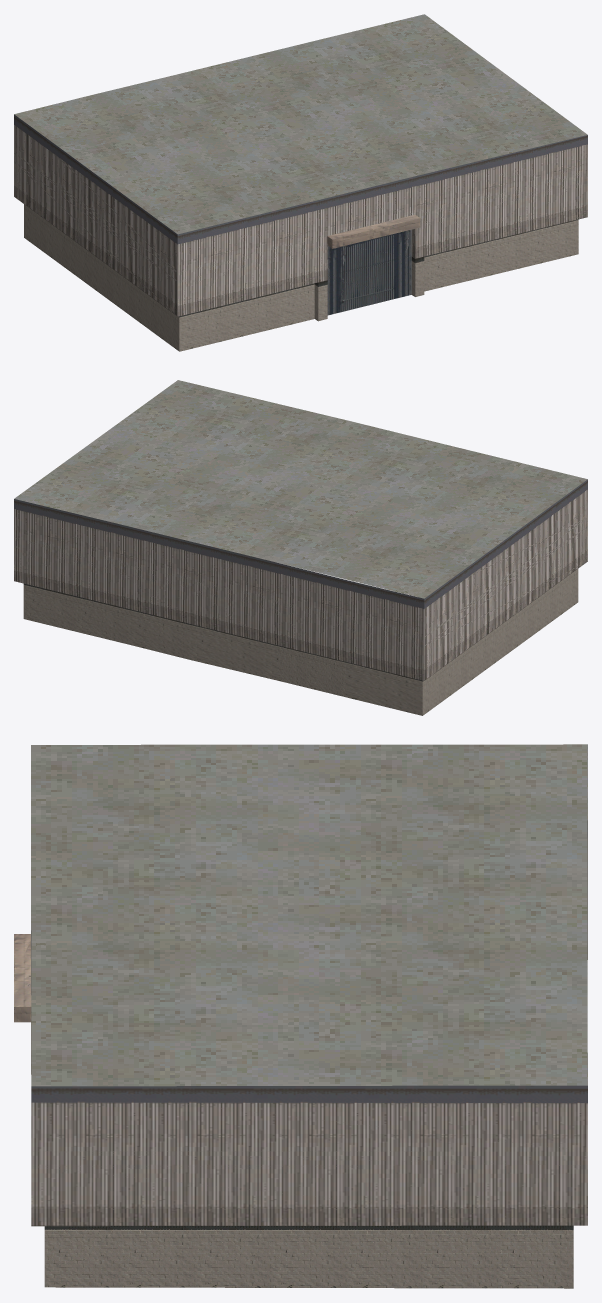
Rendered from studiobld03_law.obj.
The picture shows the model from 3 angles, top to bottom: view 1: azimuth 30°, elevation 25°; view 2: azimuth 150°, elevation 25°; view 3: azimuth 270°, elevation 25°; orthographic projection. The views are drawn at different scales.
Visible parts, largest first — view 1: studiobld03_laW; view 2: studiobld03_laW; view 3: studiobld03_laW.
Boxes of the visible parts, <box> form: studiobld03_laW: <box>14,14,587,351</box>; studiobld03_laW: <box>14,380,587,715</box>; studiobld03_laW: <box>14,744,587,1288</box>.
Size of the model in its own units: 33.08 by 9.44 by 23.55.
